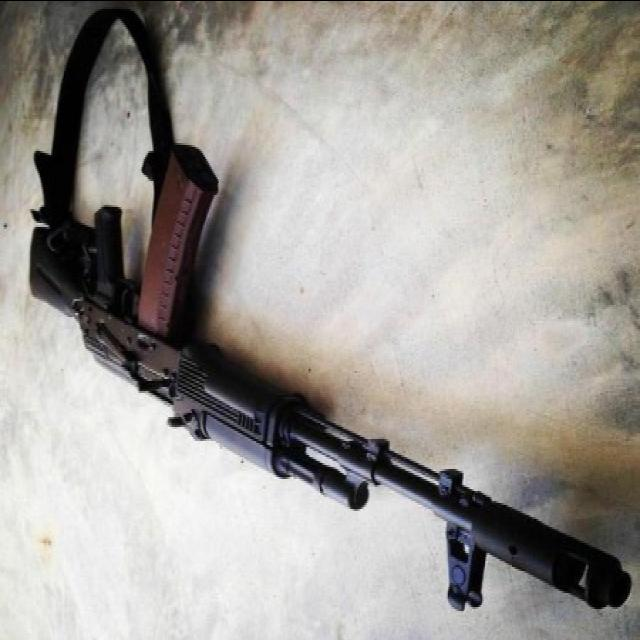rifle: (20, 1, 628, 631)
